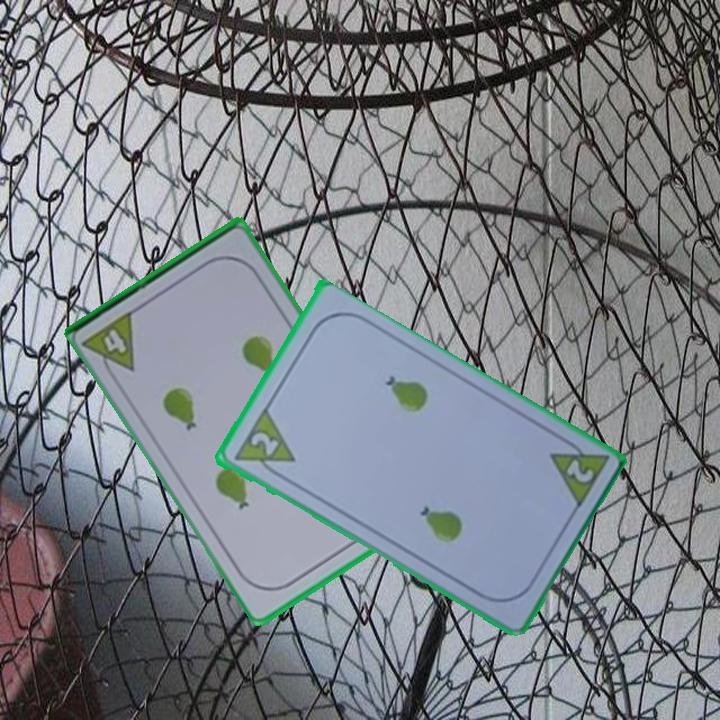2p: (246, 428, 281, 460), (561, 456, 596, 486)
4p: (80, 306, 139, 384)
